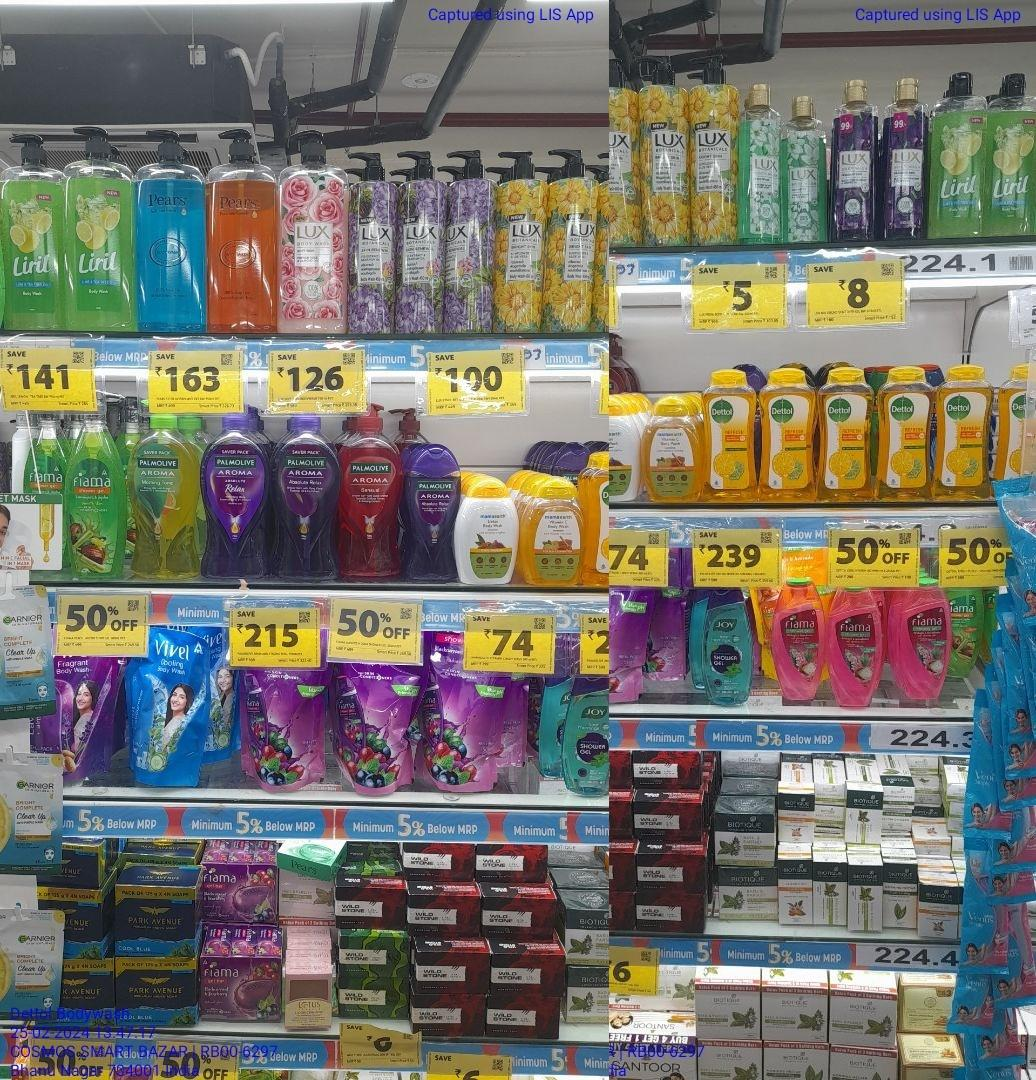Dettol_Bodywash_Refresh: (760, 369, 815, 503), (882, 366, 932, 502), (939, 367, 990, 500), (706, 369, 756, 502), (822, 369, 871, 503)
Fiama_Shower_Gel_Patchouli_and_Macadamia_250ML: (774, 577, 822, 706), (830, 584, 879, 709), (899, 585, 952, 699)
Joy_Shower_Gel_Mint_and_Eucalyptus_250ML: (564, 676, 612, 797), (704, 590, 752, 708)
Liril_Lime_and_Tea_Tree_Oil_Body_Wash_250ML: (933, 72, 986, 237), (991, 73, 1035, 235)
Lux_Black_Orchid_Scent_and_Juniper_Oil_Body_Wash_245ML: (834, 80, 877, 239), (887, 77, 927, 240)
Lux_Body_Wash_Skin_Detox_Freesia_Scent_and_Alove_Vera_245ML: (743, 84, 783, 241), (787, 97, 826, 242)
Palmolive_Aroma_Relax_250ML: (408, 446, 460, 583)
